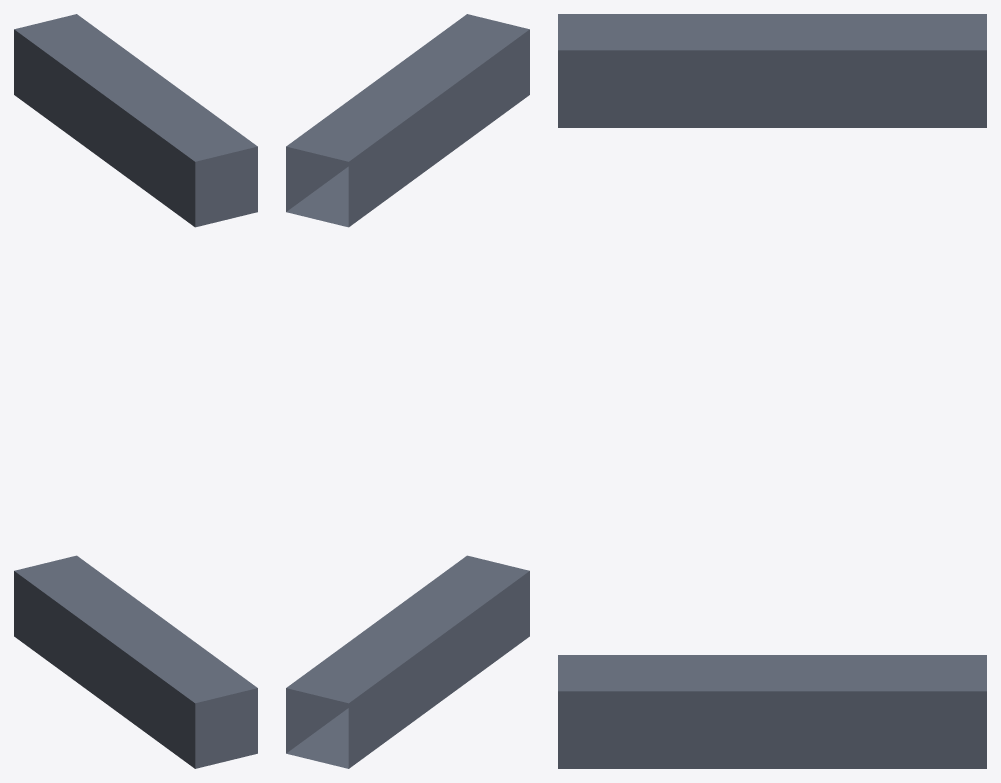
The model's file is pillar_north.glb.
The picture shows the model from 3 angles, left to right: view 1: azimuth 30°, elevation 25°; view 2: azimuth 150°, elevation 25°; view 3: azimuth 270°, elevation 25°; orthographic projection. The views are drawn at different scales.
Visible parts, largest first — view 1: bridge_03_pillar_north; view 2: bridge_03_pillar_north; view 3: bridge_03_pillar_north.
Part boxes in pixels (bbox=[...]): bridge_03_pillar_north: bbox=[14, 14, 257, 768]; bridge_03_pillar_north: bbox=[286, 14, 529, 768]; bridge_03_pillar_north: bbox=[558, 14, 986, 768].
Bounding box in the file's own units: 1.6 × 14.8 × 8.
